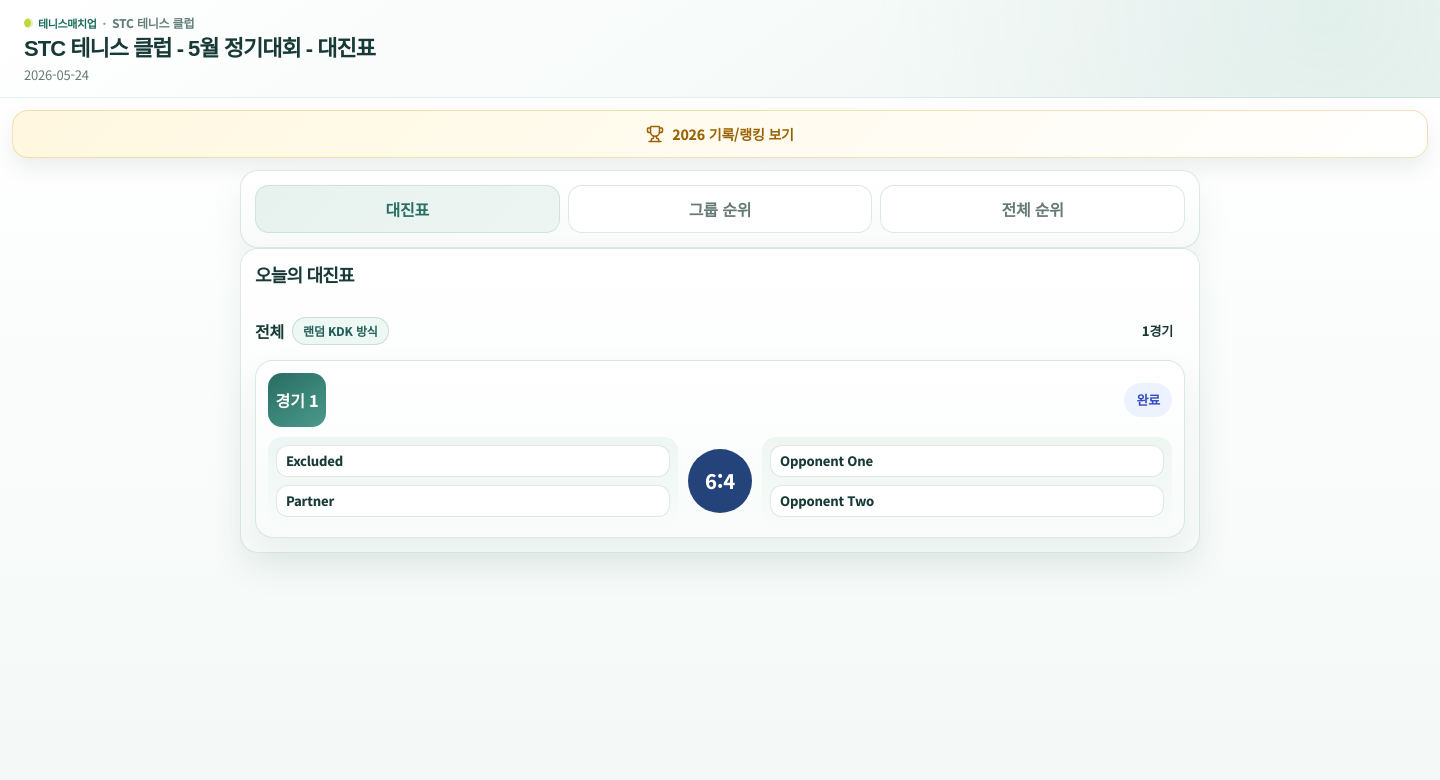
Test: PublicTournamentView auto refresh › omits only ranking-excluded members while preserving the completed match for everyone else
Click the tab with class "tab-button" showing "그룹 순위" at (720, 209), box [568,185,872,233]
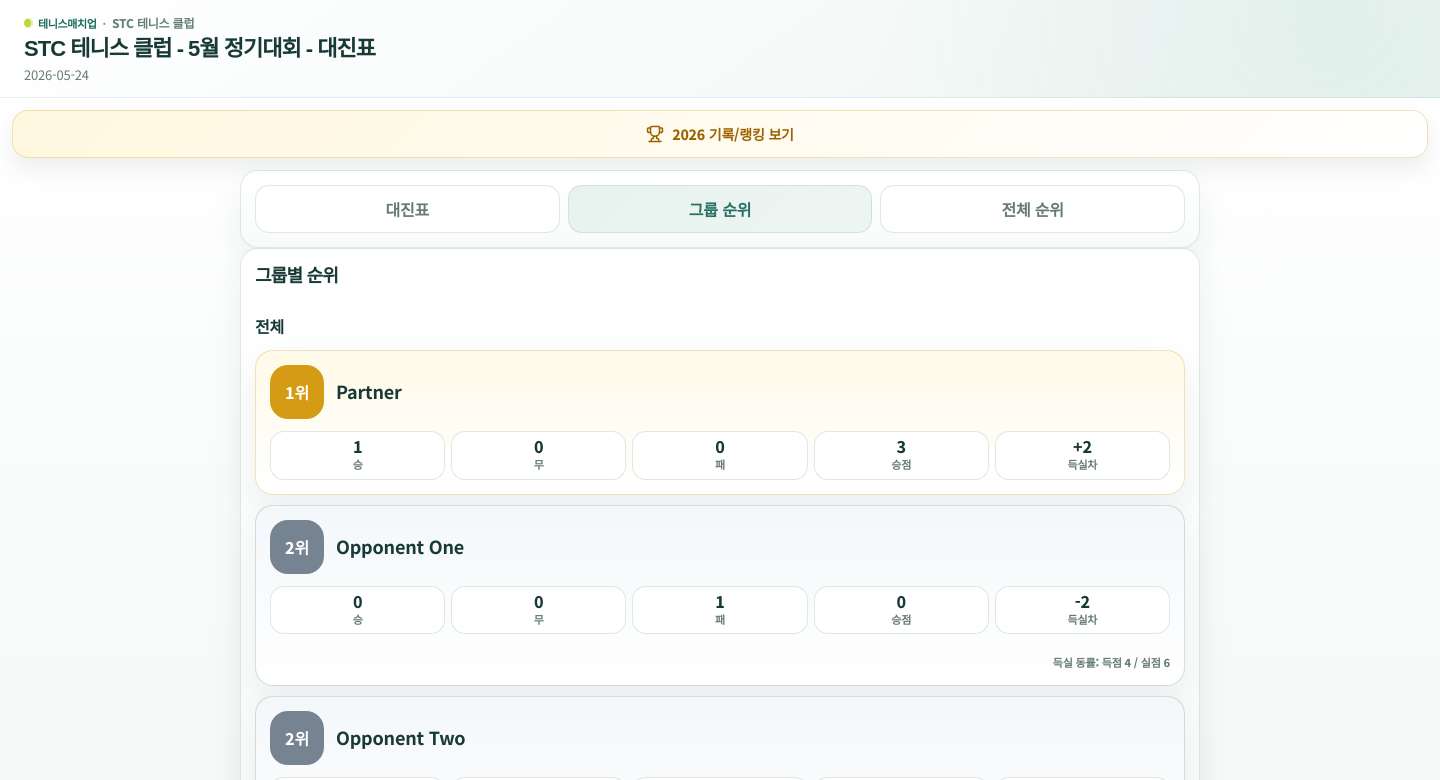
Now the text with class "ranking-card-list" no longer shows "Excluded"
Now the element with class "ranking-card-list" shows "Partner", box [336,378,402,404]
Now the element with class "ranking-card-list" shows "Opponent One", box [336,533,464,559]
